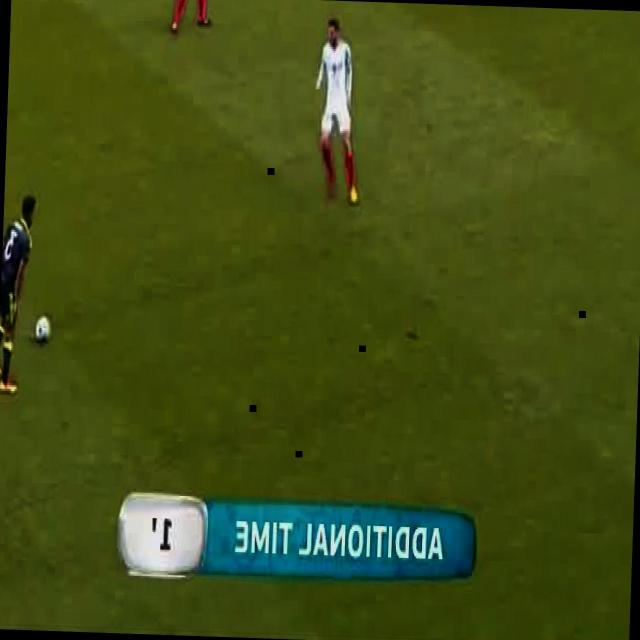ball: (34, 314, 52, 344)
player-white: (311, 13, 365, 206), (0, 190, 36, 397), (171, 0, 212, 36)
